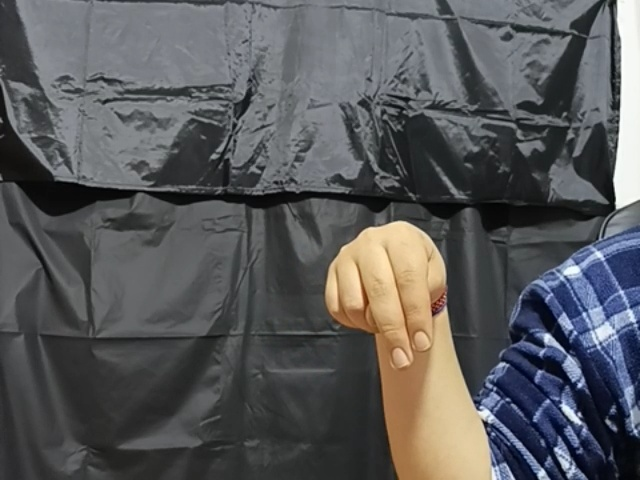N: (321, 226, 465, 379)
